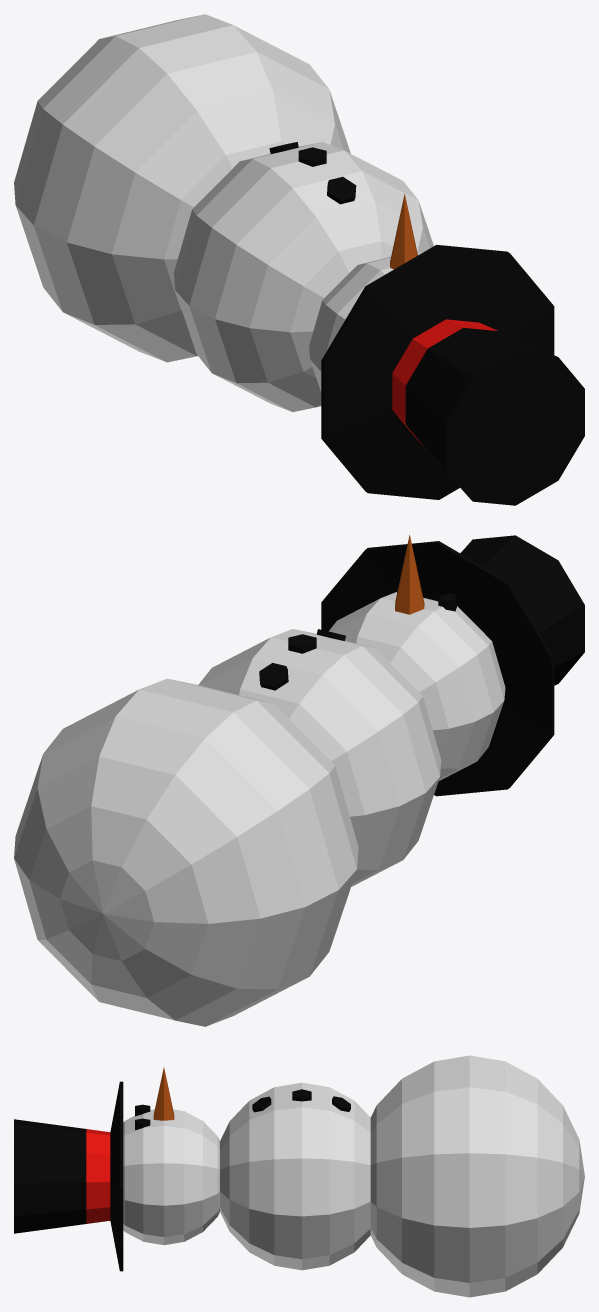
The model's file is Snowman.FBX.
The picture shows the model from 3 angles, top to bottom: view 1: azimuth 30°, elevation 25°; view 2: azimuth 150°, elevation 25°; view 3: azimuth 270°, elevation 25°; orthographic projection. The views are drawn at different scales.
Visible parts, largest first — view 1: pSphere43; view 2: pSphere43; view 3: pSphere43.
Part boxes in pixels (x1,y1,x2,y2): pSphere43: (14, 14, 584, 505); pSphere43: (14, 535, 584, 1026); pSphere43: (14, 1055, 584, 1297).
Bounding box in the file's own units: 145 × 339 × 140.
